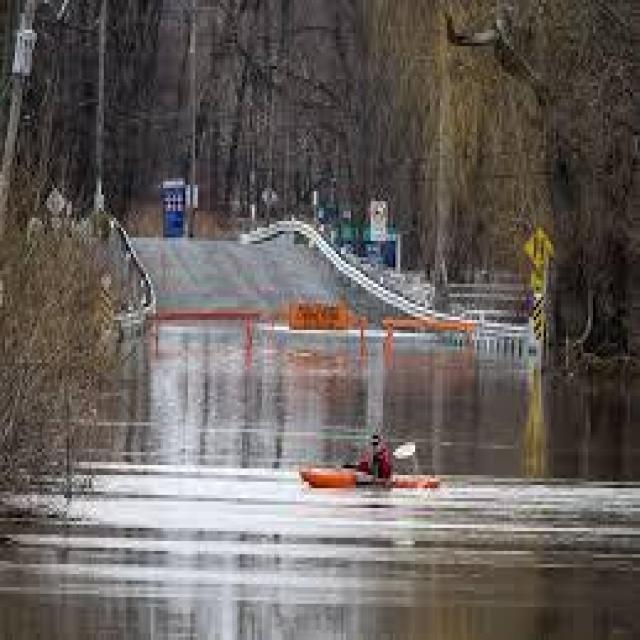other: (285, 292, 495, 352), (295, 460, 450, 506)
